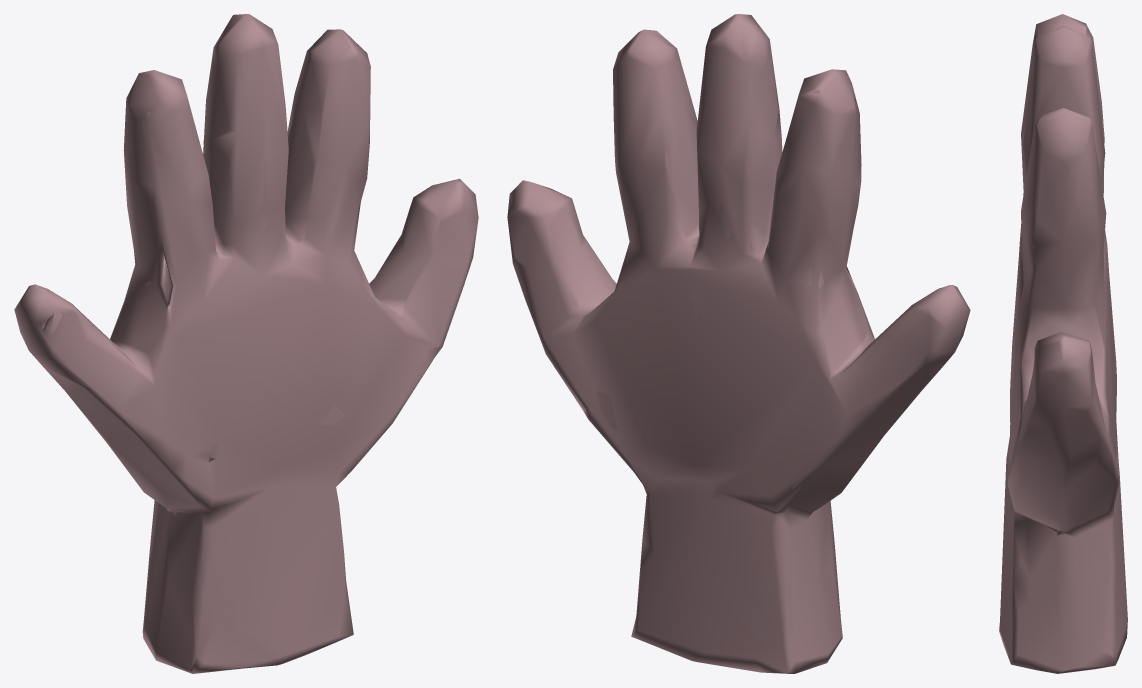
The model's file is gen3d-giant-hand-lod0.glb.
3 views of the same model, side by side, from view 1: azimuth 30°, elevation 25°; view 2: azimuth 150°, elevation 25°; view 3: azimuth 270°, elevation 25° (orthographic). The views are drawn at different scales.
Parts seen in each view (by area): view 1: part_0; view 2: part_0; view 3: part_0.
Boxes of the visible parts, <box> form: part_0: <box>14,14,478,673</box>; part_0: <box>507,14,970,673</box>; part_0: <box>999,14,1127,673</box>.
Size of the model in its own units: 0.7545 by 1 by 0.1906.
